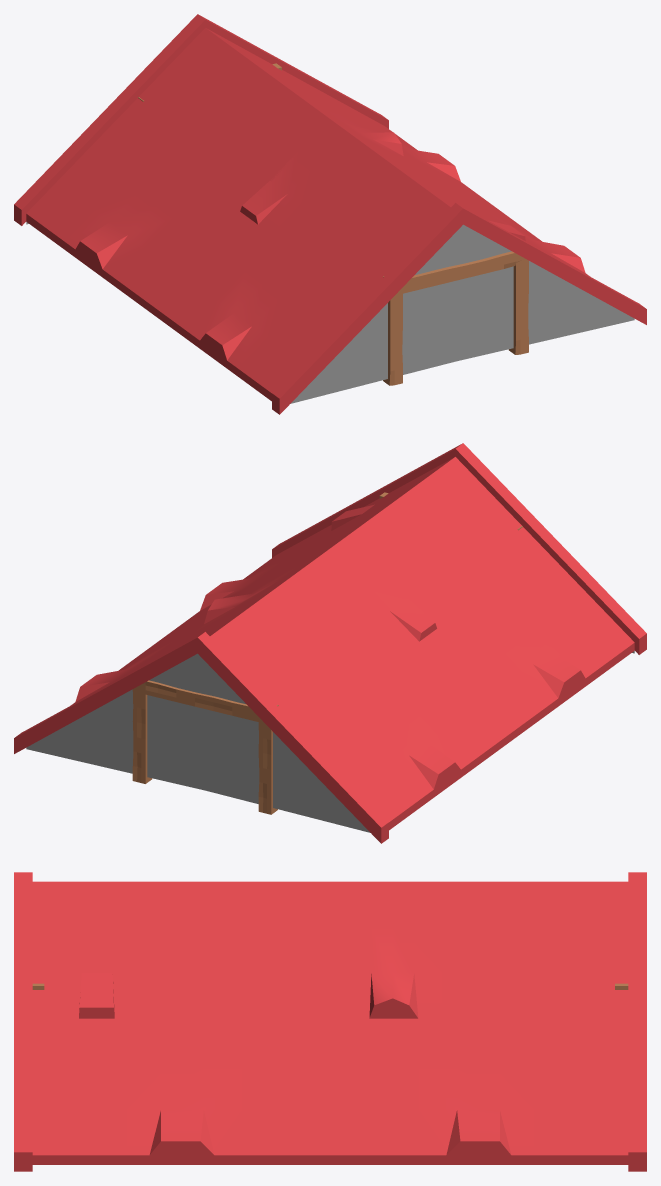
Rendered from roof_1.glb.
The picture shows the model from 3 angles, top to bottom: view 1: azimuth 30°, elevation 25°; view 2: azimuth 150°, elevation 25°; view 3: azimuth 270°, elevation 25°; orthographic projection. The views are drawn at different scales.
Visible parts, largest first — view 1: Plane; view 2: Plane; view 3: Plane.
Boxes of the visible parts, <box> form: Plane: <box>14,14,646,414</box>; Plane: <box>14,443,646,843</box>; Plane: <box>14,872,646,1171</box>.
Size of the model in its own units: 7.41 by 3.19 by 9.29.
